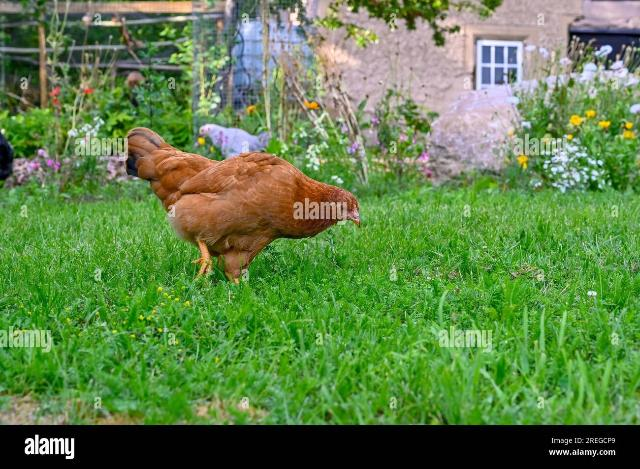Chicken: (126, 126, 360, 285), (198, 125, 273, 157)
